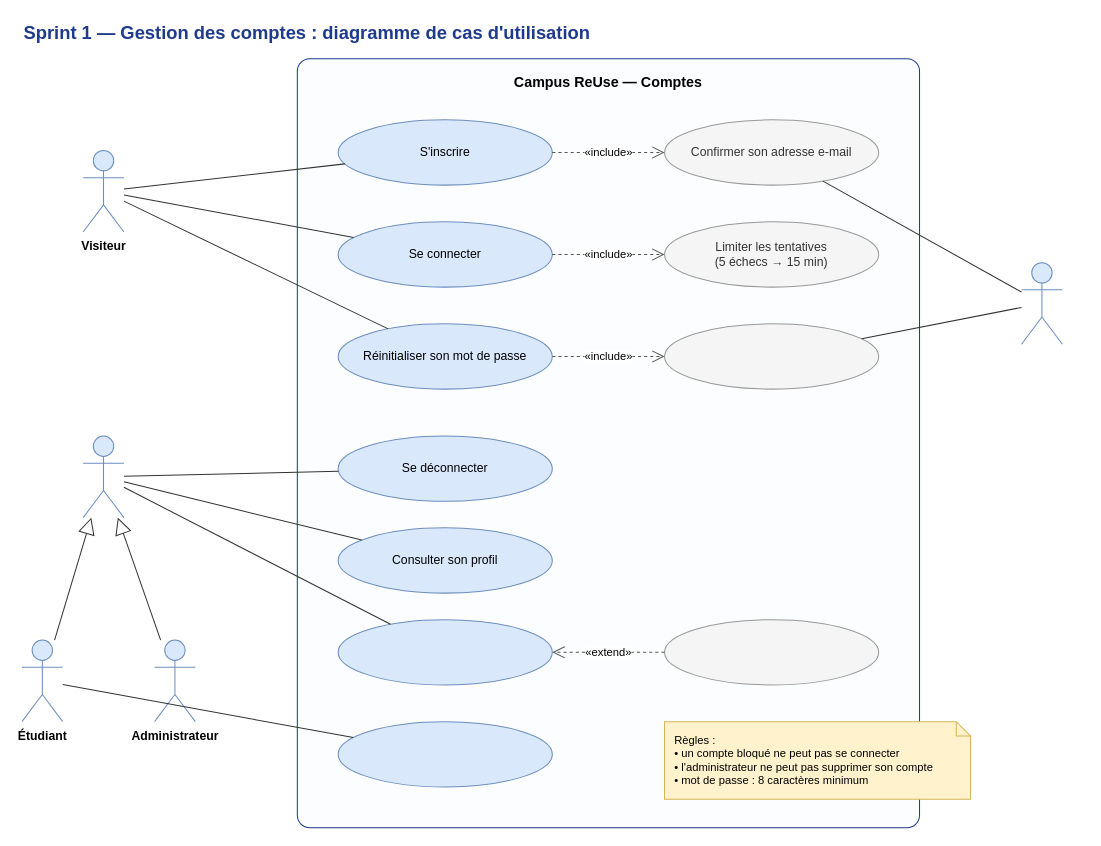
Image size: 1101x846. Some labels were removed from this diagram. The centre of each missing label's shape, as x and y in pixels:
Changer sa photo de profil: the point at 771,652
Modifier son profil: the point at 444,652
Recevoir le lien de réinitialisation (valable 30 min): the point at 771,356
Service e-mail: the point at 1041,303
Supprimer son compte: the point at 444,754
Utilisateur authentifié: the point at 103,476
